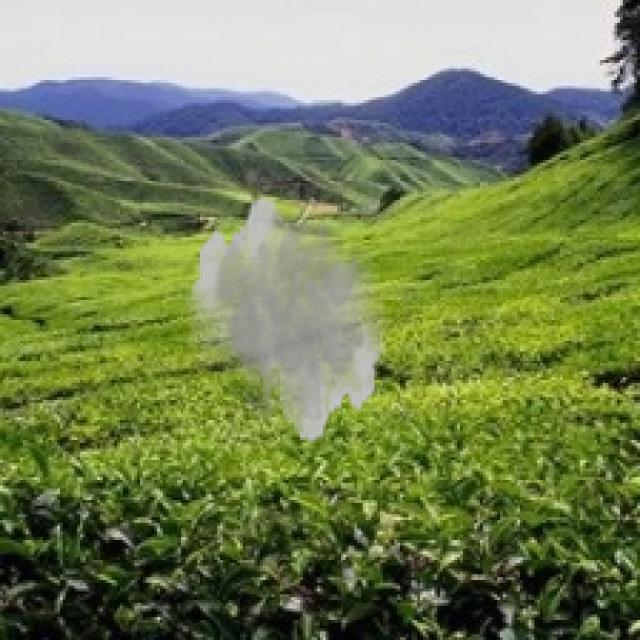smoke: (185, 194, 388, 446)
